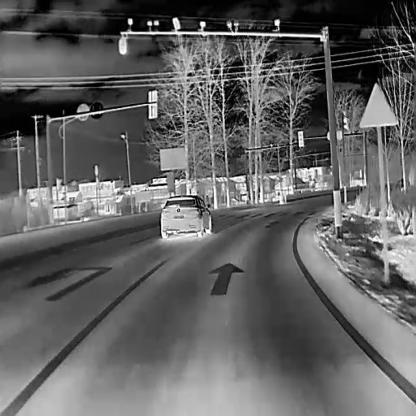car: (160, 193, 211, 238)
